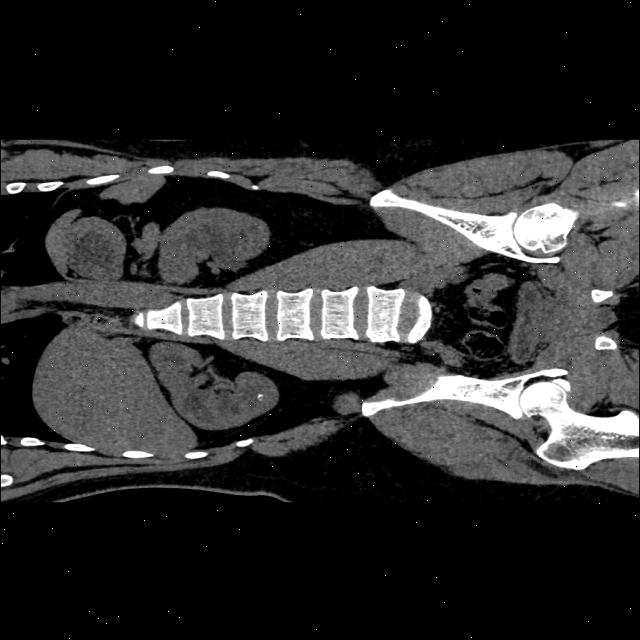kidneystone: (256, 391, 264, 400)
